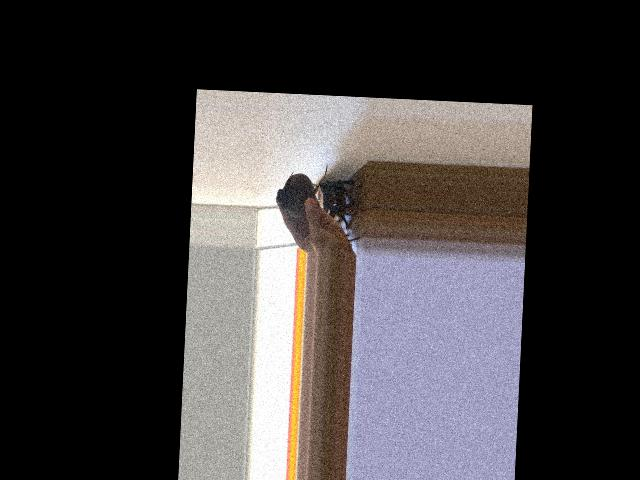beet: (275, 160, 328, 218)
